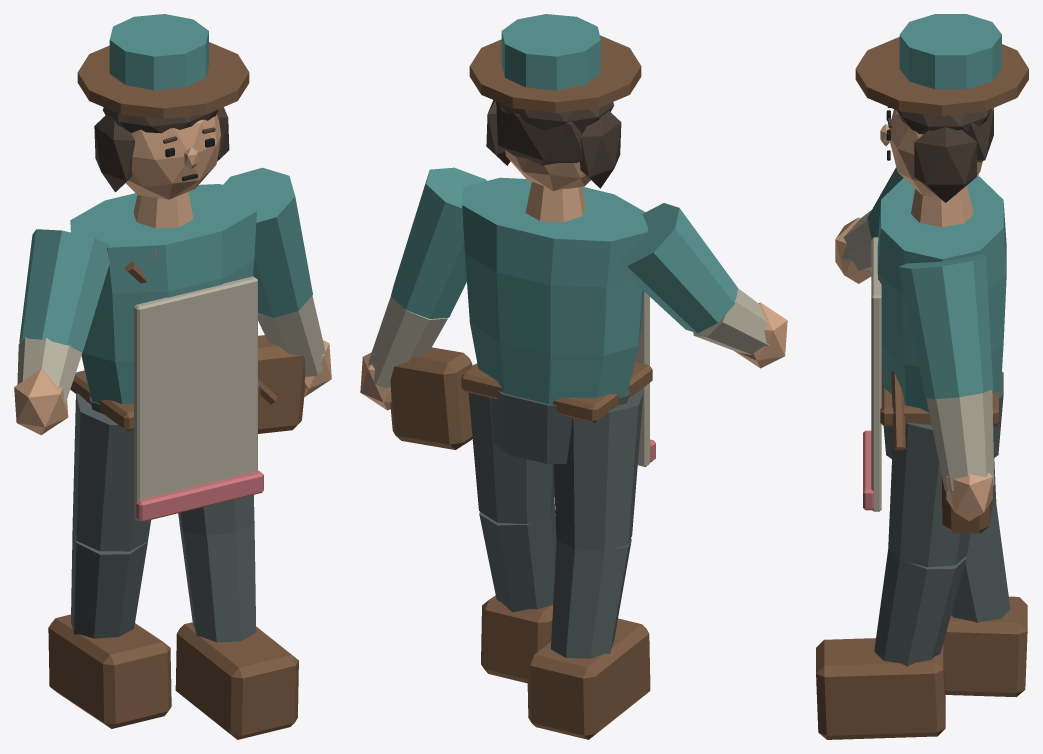
File: npc_merchant_step_r_v01.glb
The picture shows the model from 3 angles, left to right: view 1: azimuth 30°, elevation 25°; view 2: azimuth 150°, elevation 25°; view 3: azimuth 270°, elevation 25°; orthographic projection.
Visible parts, largest first — view 1: GEO_npc_merchant_step_r_v01; view 2: GEO_npc_merchant_step_r_v01; view 3: GEO_npc_merchant_step_r_v01.
Boxes of the visible parts, x1,y1,x2,y2 form: GEO_npc_merchant_step_r_v01: [14, 14, 331, 739]; GEO_npc_merchant_step_r_v01: [360, 14, 787, 739]; GEO_npc_merchant_step_r_v01: [816, 14, 1028, 739].
Size of the model in its own units: 1.26 by 2.17 by 0.6244.
